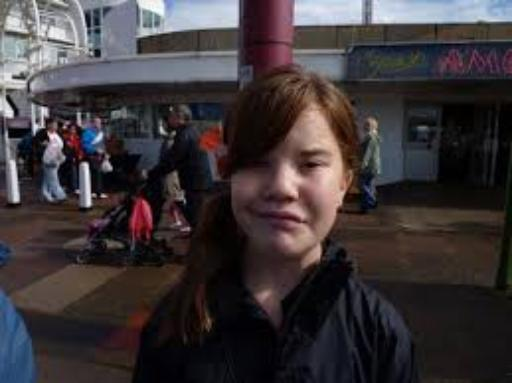left_eye: (300, 162, 330, 173)
left_lip_corner: (297, 217, 314, 229)
right_lip_corner: (254, 212, 271, 223)
